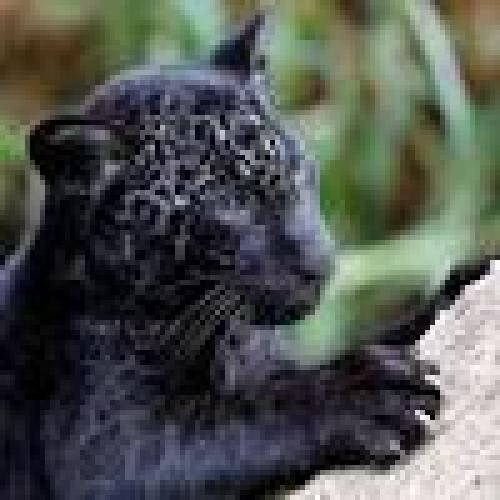panther-endangered: (0, 15, 490, 485)
